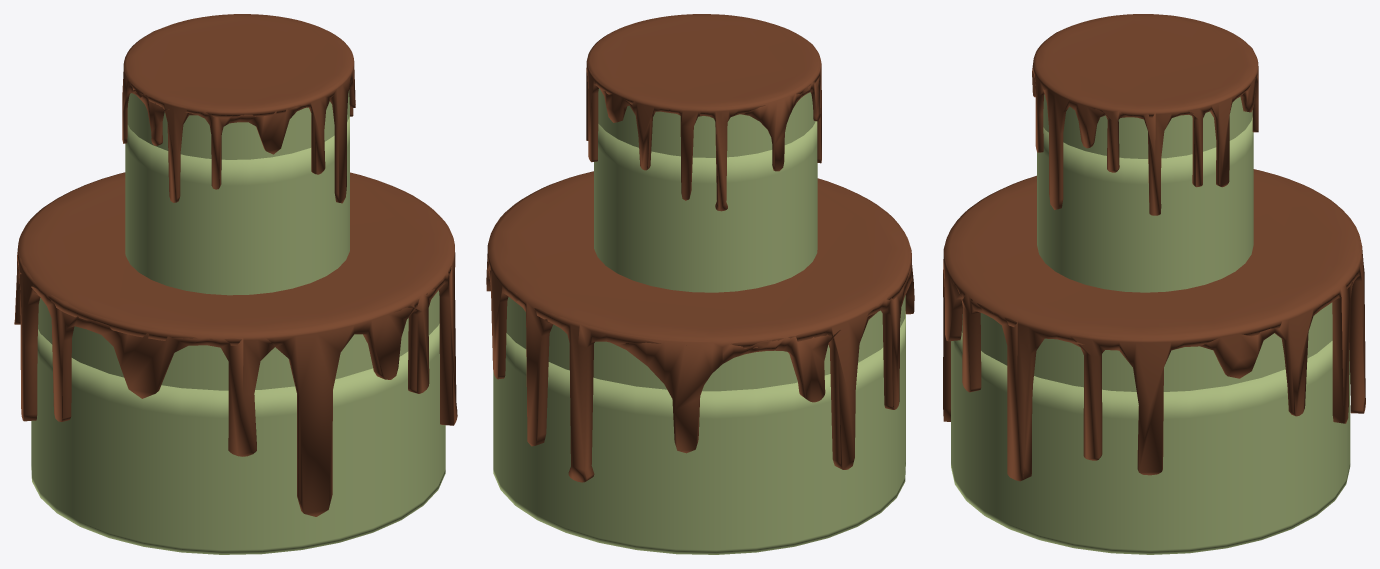
The model's file is 2-tier-pistage-ganache-none.glb.
The picture shows the model from 3 angles, left to right: view 1: azimuth 30°, elevation 25°; view 2: azimuth 150°, elevation 25°; view 3: azimuth 270°, elevation 25°; orthographic projection.
Visible parts, largest first — view 1: Cylinder.023, tHE ICING.004, Cylinder.013, tHE ICING.003; view 2: Cylinder.023, tHE ICING.004, Cylinder.013, tHE ICING.003; view 3: Cylinder.023, tHE ICING.004, Cylinder.013, tHE ICING.003.
Part boxes in pixels (bbox=[...]): Cylinder.023: bbox=[31, 290, 445, 554]; tHE ICING.004: bbox=[14, 172, 457, 516]; Cylinder.013: bbox=[125, 90, 349, 295]; tHE ICING.003: bbox=[122, 14, 355, 203]; Cylinder.023: bbox=[493, 295, 905, 554]; tHE ICING.004: bbox=[486, 171, 914, 482]; Cylinder.013: bbox=[594, 88, 817, 292]; tHE ICING.003: bbox=[586, 14, 821, 211]; Cylinder.023: bbox=[951, 302, 1350, 554]; tHE ICING.004: bbox=[943, 169, 1365, 481]; Cylinder.013: bbox=[1037, 94, 1253, 292]; tHE ICING.003: bbox=[1032, 14, 1258, 215].
Size of the model in its own units: 3.53 by 3.66 by 3.46.
